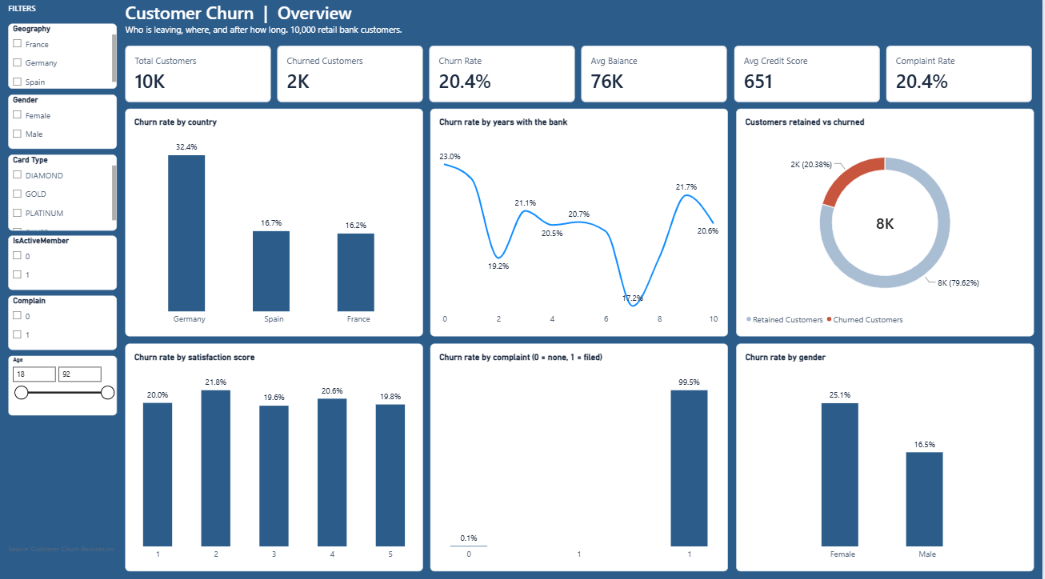

Layout of this report page (visuals, bound fields, positions):
{"tool":"powerbi","page":{"name":"Overview","canvas":[1920,1080],"ordinal":0},"visuals":[{"type":"cardVisual","fields":{"Data":["_Measures.Total Customers","_Measures.Churned Customers","_Measures.Churn Rate","_Measures.Avg Balance","_Measures.Avg Credit Score","_Measures.Complaint Rate"]},"box":[1533,0,386,1080],"z":1000},{"type":"slicer","fields":{"Values":["Customer-Churn-Records.Geography"]},"box":[16,16,200,120],"z":2000},{"type":"slicer","fields":{"Values":["Customer-Churn-Records.Gender"]},"box":[16,146,200,100],"z":3000},{"type":"slicer","fields":{"Values":["Customer-Churn-Records.Card Type"]},"box":[16,256,200,140],"z":4000},{"type":"slicer","fields":{"Values":["Customer-Churn-Records.IsActiveMember"]},"box":[16,406,200,100],"z":5000},{"type":"slicer","fields":{"Values":["Customer-Churn-Records.Complain"]},"box":[16,516,200,100],"z":6000},{"type":"slicer","fields":{"Values":["Customer-Churn-Records.Age"]},"box":[16.5,615.4,200,110],"z":7000},{"type":"columnChart","title":"Churn rate by country","fields":{"Category":["Customer-Churn-Records.Geography"],"Y":["_Measures.Churn Rate"]},"box":[232,16,636,338],"z":8000},{"type":"lineChart","title":"Churn rate by tenure (years)","fields":{"Category":["Customer-Churn-Records.Tenure"],"Y":["_Measures.Churn Rate"]},"box":[884,16,636,338],"z":9000},{"type":"donutChart","title":"Retained vs churned customers","fields":{"Y":["_Measures.Retained Customers","_Measures.Churned Customers"]},"box":[232,370,636,338],"z":10000},{"type":"columnChart","title":"Churn rate by satisfaction score","fields":{"Category":["Customer-Churn-Records.Satisfaction Score"],"Y":["_Measures.Churn Rate"]},"box":[884,370,636,338],"z":11000},{"type":"columnChart","title":"Churn rate by complaint (0 = no, 1 = yes)","fields":{"Category":["Customer-Churn-Records.Complain"],"Y":["_Measures.Churn Rate"]},"box":[232,724,636,338],"z":12000},{"type":"columnChart","title":"Churn rate by gender","fields":{"Category":["Customer-Churn-Records.Gender"],"Y":["_Measures.Churn Rate"]},"box":[884,724,636,338],"z":13000}]}

Visuals, with their boxes in screenshot pixels (x1, y1, x2, y2), scaled from the page's 1920x1080 canvas onto the 1045x579 screenshot:
cardVisual - _Measures.Total Customers x _Measures.Churned Customers: [left=834, top=0, right=1044, bottom=578]
slicer - Customer-Churn-Records.Geography: [left=9, top=9, right=118, bottom=73]
slicer - Customer-Churn-Records.Gender: [left=9, top=78, right=118, bottom=132]
slicer - Customer-Churn-Records.Card Type: [left=9, top=137, right=118, bottom=212]
slicer - Customer-Churn-Records.IsActiveMember: [left=9, top=218, right=118, bottom=271]
slicer - Customer-Churn-Records.Complain: [left=9, top=277, right=118, bottom=330]
slicer - Customer-Churn-Records.Age: [left=9, top=330, right=118, bottom=389]
"Churn rate by country" columnChart: [left=126, top=9, right=472, bottom=190]
"Churn rate by tenure (years)" lineChart: [left=481, top=9, right=827, bottom=190]
"Retained vs churned customers" donutChart: [left=126, top=198, right=472, bottom=380]
"Churn rate by satisfaction score" columnChart: [left=481, top=198, right=827, bottom=380]
"Churn rate by complaint (0 = no, 1 = yes)" columnChart: [left=126, top=388, right=472, bottom=569]
"Churn rate by gender" columnChart: [left=481, top=388, right=827, bottom=569]
